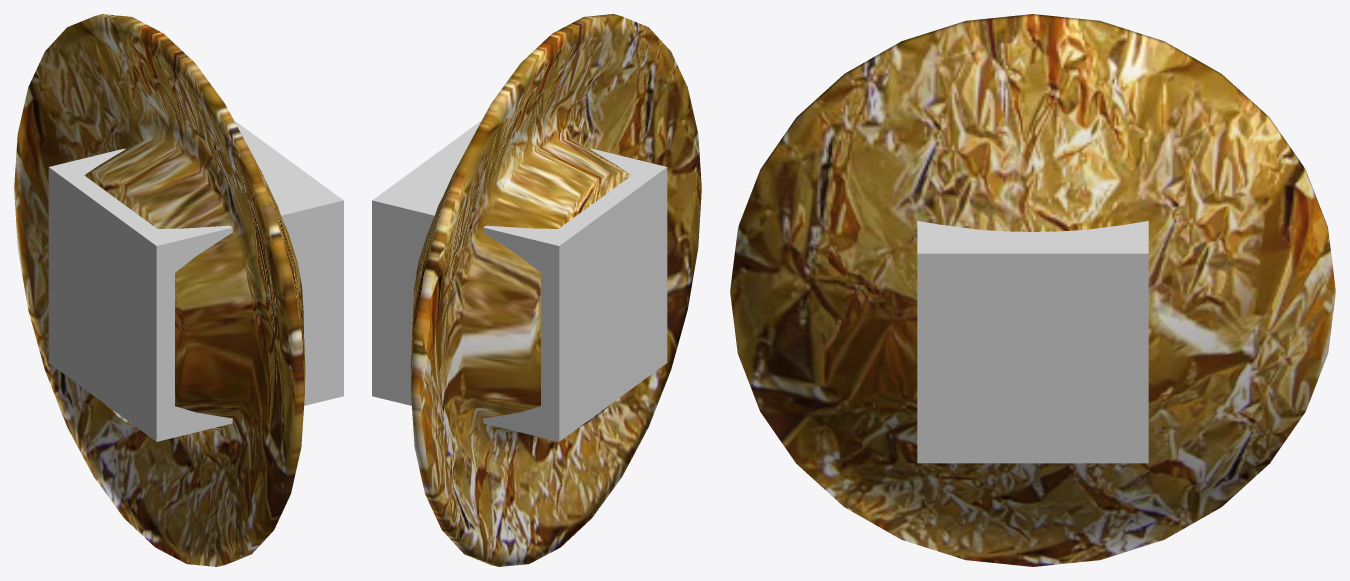
Rendered from space-cassini-huygens.glb.
3 views of the same model, side by side, from view 1: azimuth 30°, elevation 25°; view 2: azimuth 150°, elevation 25°; view 3: azimuth 270°, elevation 25° (orthographic). The views are drawn at different scales.
Parts seen in each view (by area): view 1: foil_gold_h, _root; view 2: foil_gold_h, _root; view 3: foil_gold_h, _root.
Part boxes in pixels (x1,y1,x2,y2): foil_gold_h: [14, 14, 305, 566]; _root: [48, 121, 343, 441]; foil_gold_h: [410, 14, 701, 566]; _root: [372, 121, 667, 441]; foil_gold_h: [730, 14, 1335, 566]; _root: [917, 221, 1148, 463].
Bounding box in the file's own units: 1 × 2.62 × 2.62.
Materials: 2 (1 with a texture image).
